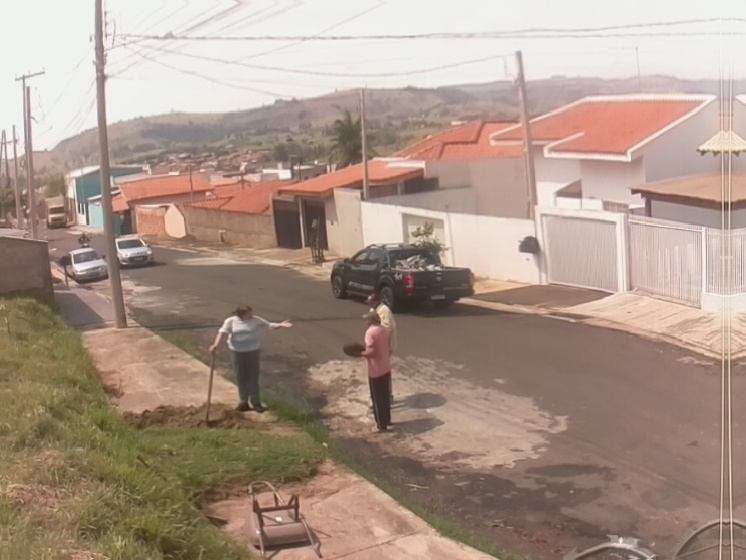person: (207, 306, 296, 412), (344, 312, 392, 433), (363, 293, 391, 325)
